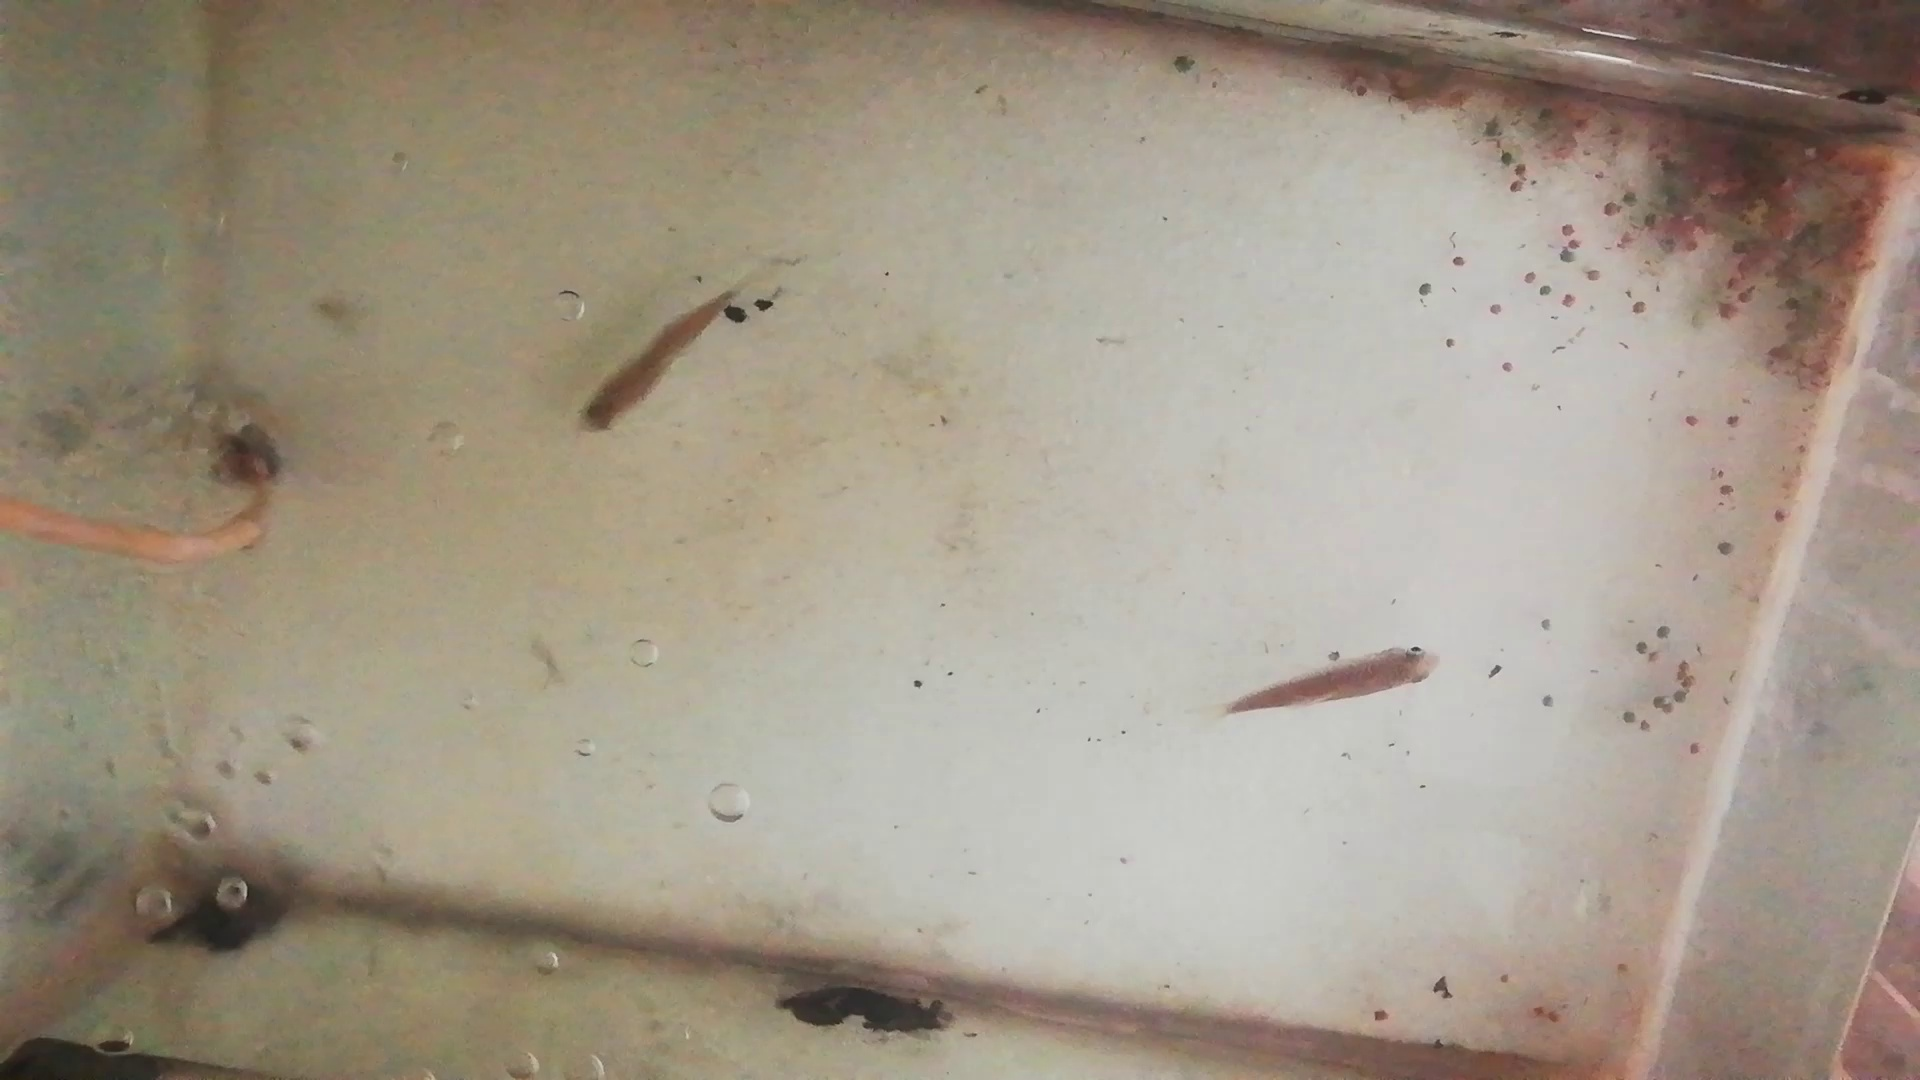fish: (570, 281, 735, 434), (1236, 640, 1429, 721)
